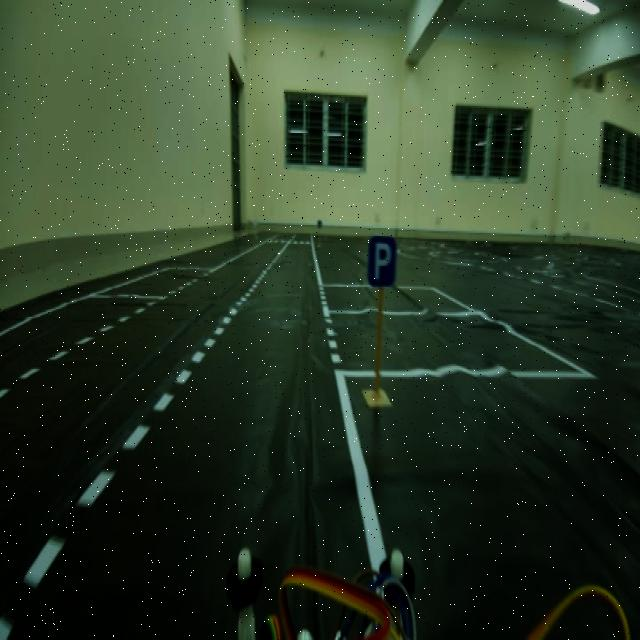parking: (360, 229, 402, 292)
